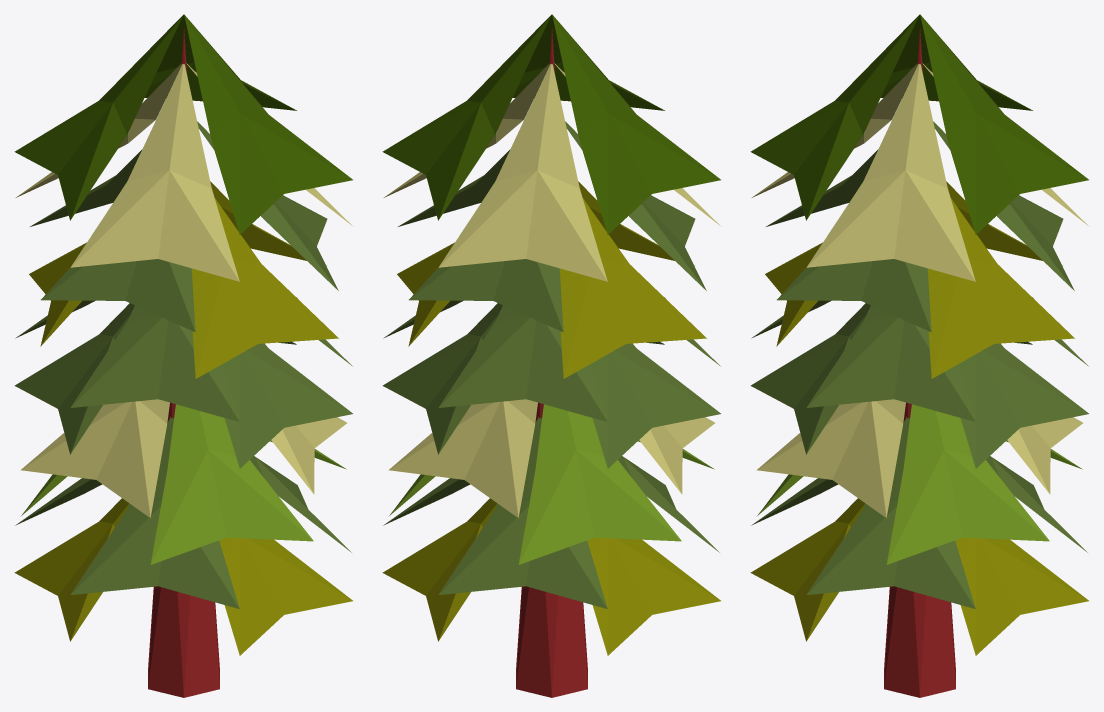
Rendered from origami_pine_small.fbx.
3 views of the same model, side by side, from view 1: azimuth 30°, elevation 25°; view 2: azimuth 150°, elevation 25°; view 3: azimuth 270°, elevation 25° (orthographic).
Parts seen in each view (by area): view 1: _G-Object (Loose Mesh), G-Object.001; view 2: _G-Object (Loose Mesh), G-Object.001; view 3: _G-Object (Loose Mesh), G-Object.001.
Part boxes in pixels (x1,y1,x2,y2): _G-Object (Loose Mesh): (14,14,352,655); G-Object.001: (148,28,219,697); _G-Object (Loose Mesh): (382,14,720,655); G-Object.001: (516,28,587,697); _G-Object (Loose Mesh): (750,14,1088,655); G-Object.001: (884,28,955,697).
Bounding box in the file's own units: 334 × 712 × 329.
